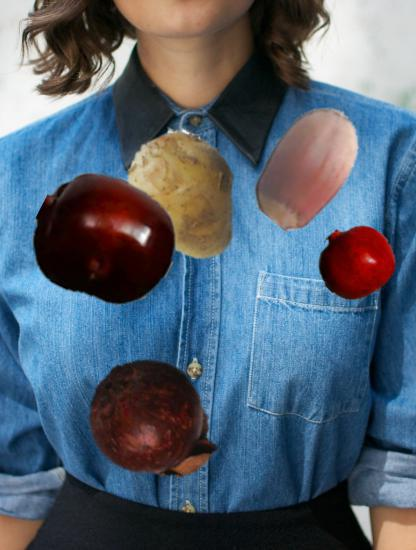Cherry: (33, 168, 177, 312)
Hazelnut: (243, 99, 375, 231)
Mangostan: (82, 355, 218, 491)
Pomegranate: (317, 223, 394, 300)
Potato: (113, 126, 254, 267)
